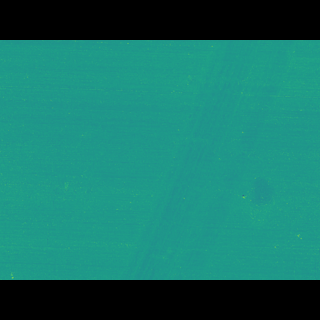Loch: (121, 70, 296, 249), (239, 170, 283, 202)
